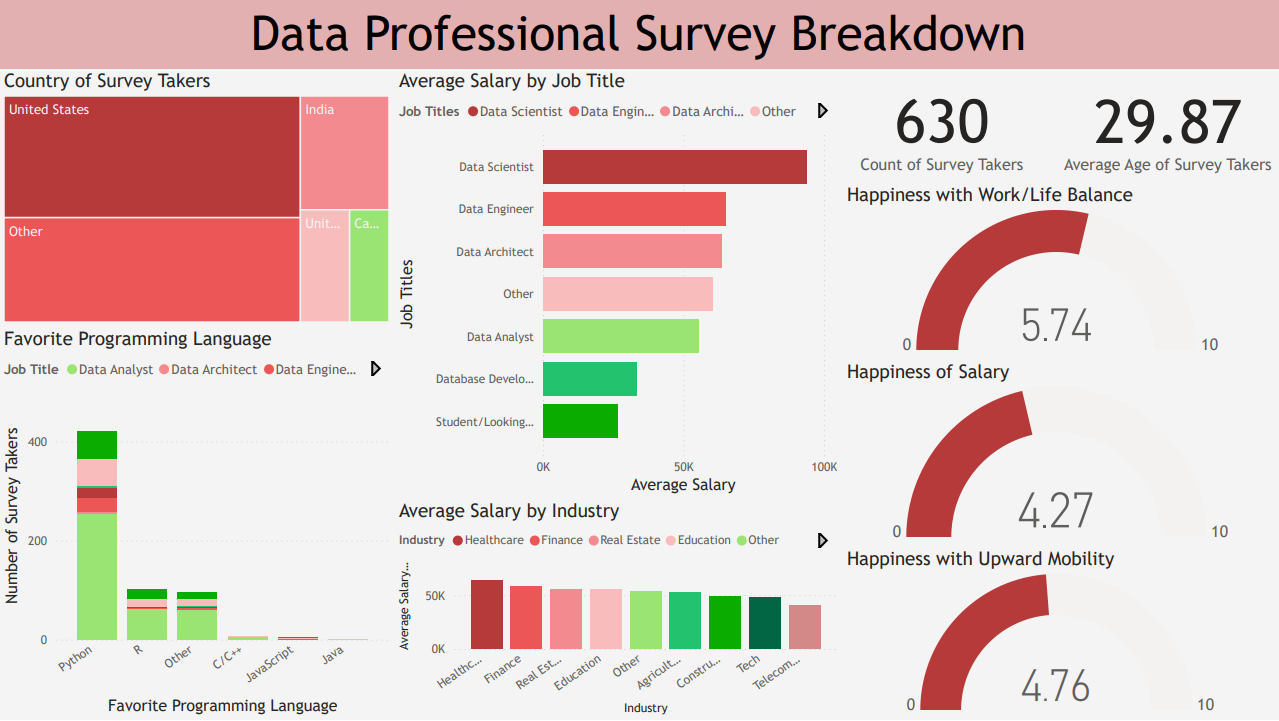

The page's visual inventory and layout, read from the dashboard file:
{"tool":"powerbi","page":{"name":"Dashboard","canvas":[1280,720],"ordinal":0},"visuals":[{"type":"textbox","box":[0,0,1280,68.6],"z":0},{"type":"card","fields":{"Values":["Count(Data Professional Survey.Unique ID)"]},"box":[843,68,215,114],"z":1000},{"type":"card","fields":{"Values":["Avg(Data Professional Survey.Q10 - Current Age)"]},"box":[1058,68,222,115],"z":2000},{"type":"barChart","title":"Average Salary by Job Title","fields":{"Category":["Data Professional Survey.Q1 - Which Title Best Fits your Current Role?.1"],"Y":["Avg(Data Professional Survey.Averager Salary)"],"Series":["Data Professional Survey.Q1 - Which Title Best Fits your Current Role?.1"]},"box":[394.7,69.2,447.9,429.9],"z":3000},{"type":"columnChart","title":"Favorite Programming Language","fields":{"Category":["Data Professional Survey.Q5 - Favorite Programming Language.1"],"Y":["CountNonNull(Data Professional Survey.Unique ID)"],"Series":["Data Professional Survey.Q1 - Which Title Best Fits your Current Role?.1"]},"box":[0,326.7,394.7,393.7],"z":4000},{"type":"treemap","title":"Country of Survey Takers","fields":{"Group":["Data Professional Survey.Q11 - Which Country do you live in?.1"],"Values":["CountNonNull(Data Professional Survey.Q11 - Which Country do you live in?.1)"]},"box":[0,69.2,394.7,257.5],"z":5000},{"type":"gauge","title":"Happiness with Work/Life Balance","fields":{"Y":["Avg(Data Professional Survey.Q6 - How Happy are you in your Current Position with the following? (Work/Life Balance))"],"MinValue":["Min(Data Professional Survey.Q6 - How Happy are you in your Current Position with the following? (Work/Life Balance))"],"MaxValue":["Max(Data Professional Survey.Q6 - How Happy are you in your Current Position with the following? (Work/Life Balance))"]},"box":[842.7,183,437.3,176.6],"z":6000},{"type":"gauge","title":"Happiness with Upward Mobility","fields":{"Y":["Avg(Data Professional Survey.Q6 - How Happy are you in your Current Position with the following? (Upward Mobility))"],"MinValue":["Min(Data Professional Survey.Q6 - How Happy are you in your Current Position with the following? (Upward Mobility))"],"MaxValue":["Max(Data Professional Survey.Q6 - How Happy are you in your Current Position with the following? (Upward Mobility))"]},"box":[842.7,546.9,437.3,173.4],"z":7000},{"type":"gauge","title":"Happiness of Salary","fields":{"Y":["Avg(Data Professional Survey.Q6 - How Happy are you in your Current Position with the following? (Salary))"],"MinValue":["Min(Data Professional Survey.Q6 - How Happy are you in your Current Position with the following? (Salary))"],"MaxValue":["Max(Data Professional Survey.Q6 - How Happy are you in your Current Position with the following? (Salary))"]},"box":[842.7,359.6,437.3,187.3],"z":8000},{"type":"columnChart","title":"Average Salary by Industry","fields":{"Category":["Data Professional Survey.Q4 - What Industry do you work in?.1"],"Y":["Avg(Data Professional Survey.Average Salary)"],"Series":["Data Professional Survey.Q4 - What Industry do you work in?.1"]},"box":[395,499,448,221],"z":10000}]}

Visuals, with their boxes in screenshot pixels (x1, y1, x2, y2), scaled from the page's 1280x720 canvas onto the 1279x721 screenshot:
textbox: locate(0, 0, 1278, 69)
card - Count(Data Professional Survey.Unique ID): locate(842, 68, 1057, 182)
card - Avg(Data Professional Survey.Q10 - Current Age): locate(1057, 68, 1278, 183)
"Average Salary by Job Title" barChart: locate(394, 69, 842, 500)
"Favorite Programming Language" columnChart: locate(0, 327, 394, 720)
"Country of Survey Takers" treemap: locate(0, 69, 394, 327)
"Happiness with Work/Life Balance" gauge: locate(842, 183, 1278, 360)
"Happiness with Upward Mobility" gauge: locate(842, 548, 1278, 720)
"Happiness of Salary" gauge: locate(842, 360, 1278, 548)
"Average Salary by Industry" columnChart: locate(395, 500, 842, 720)
